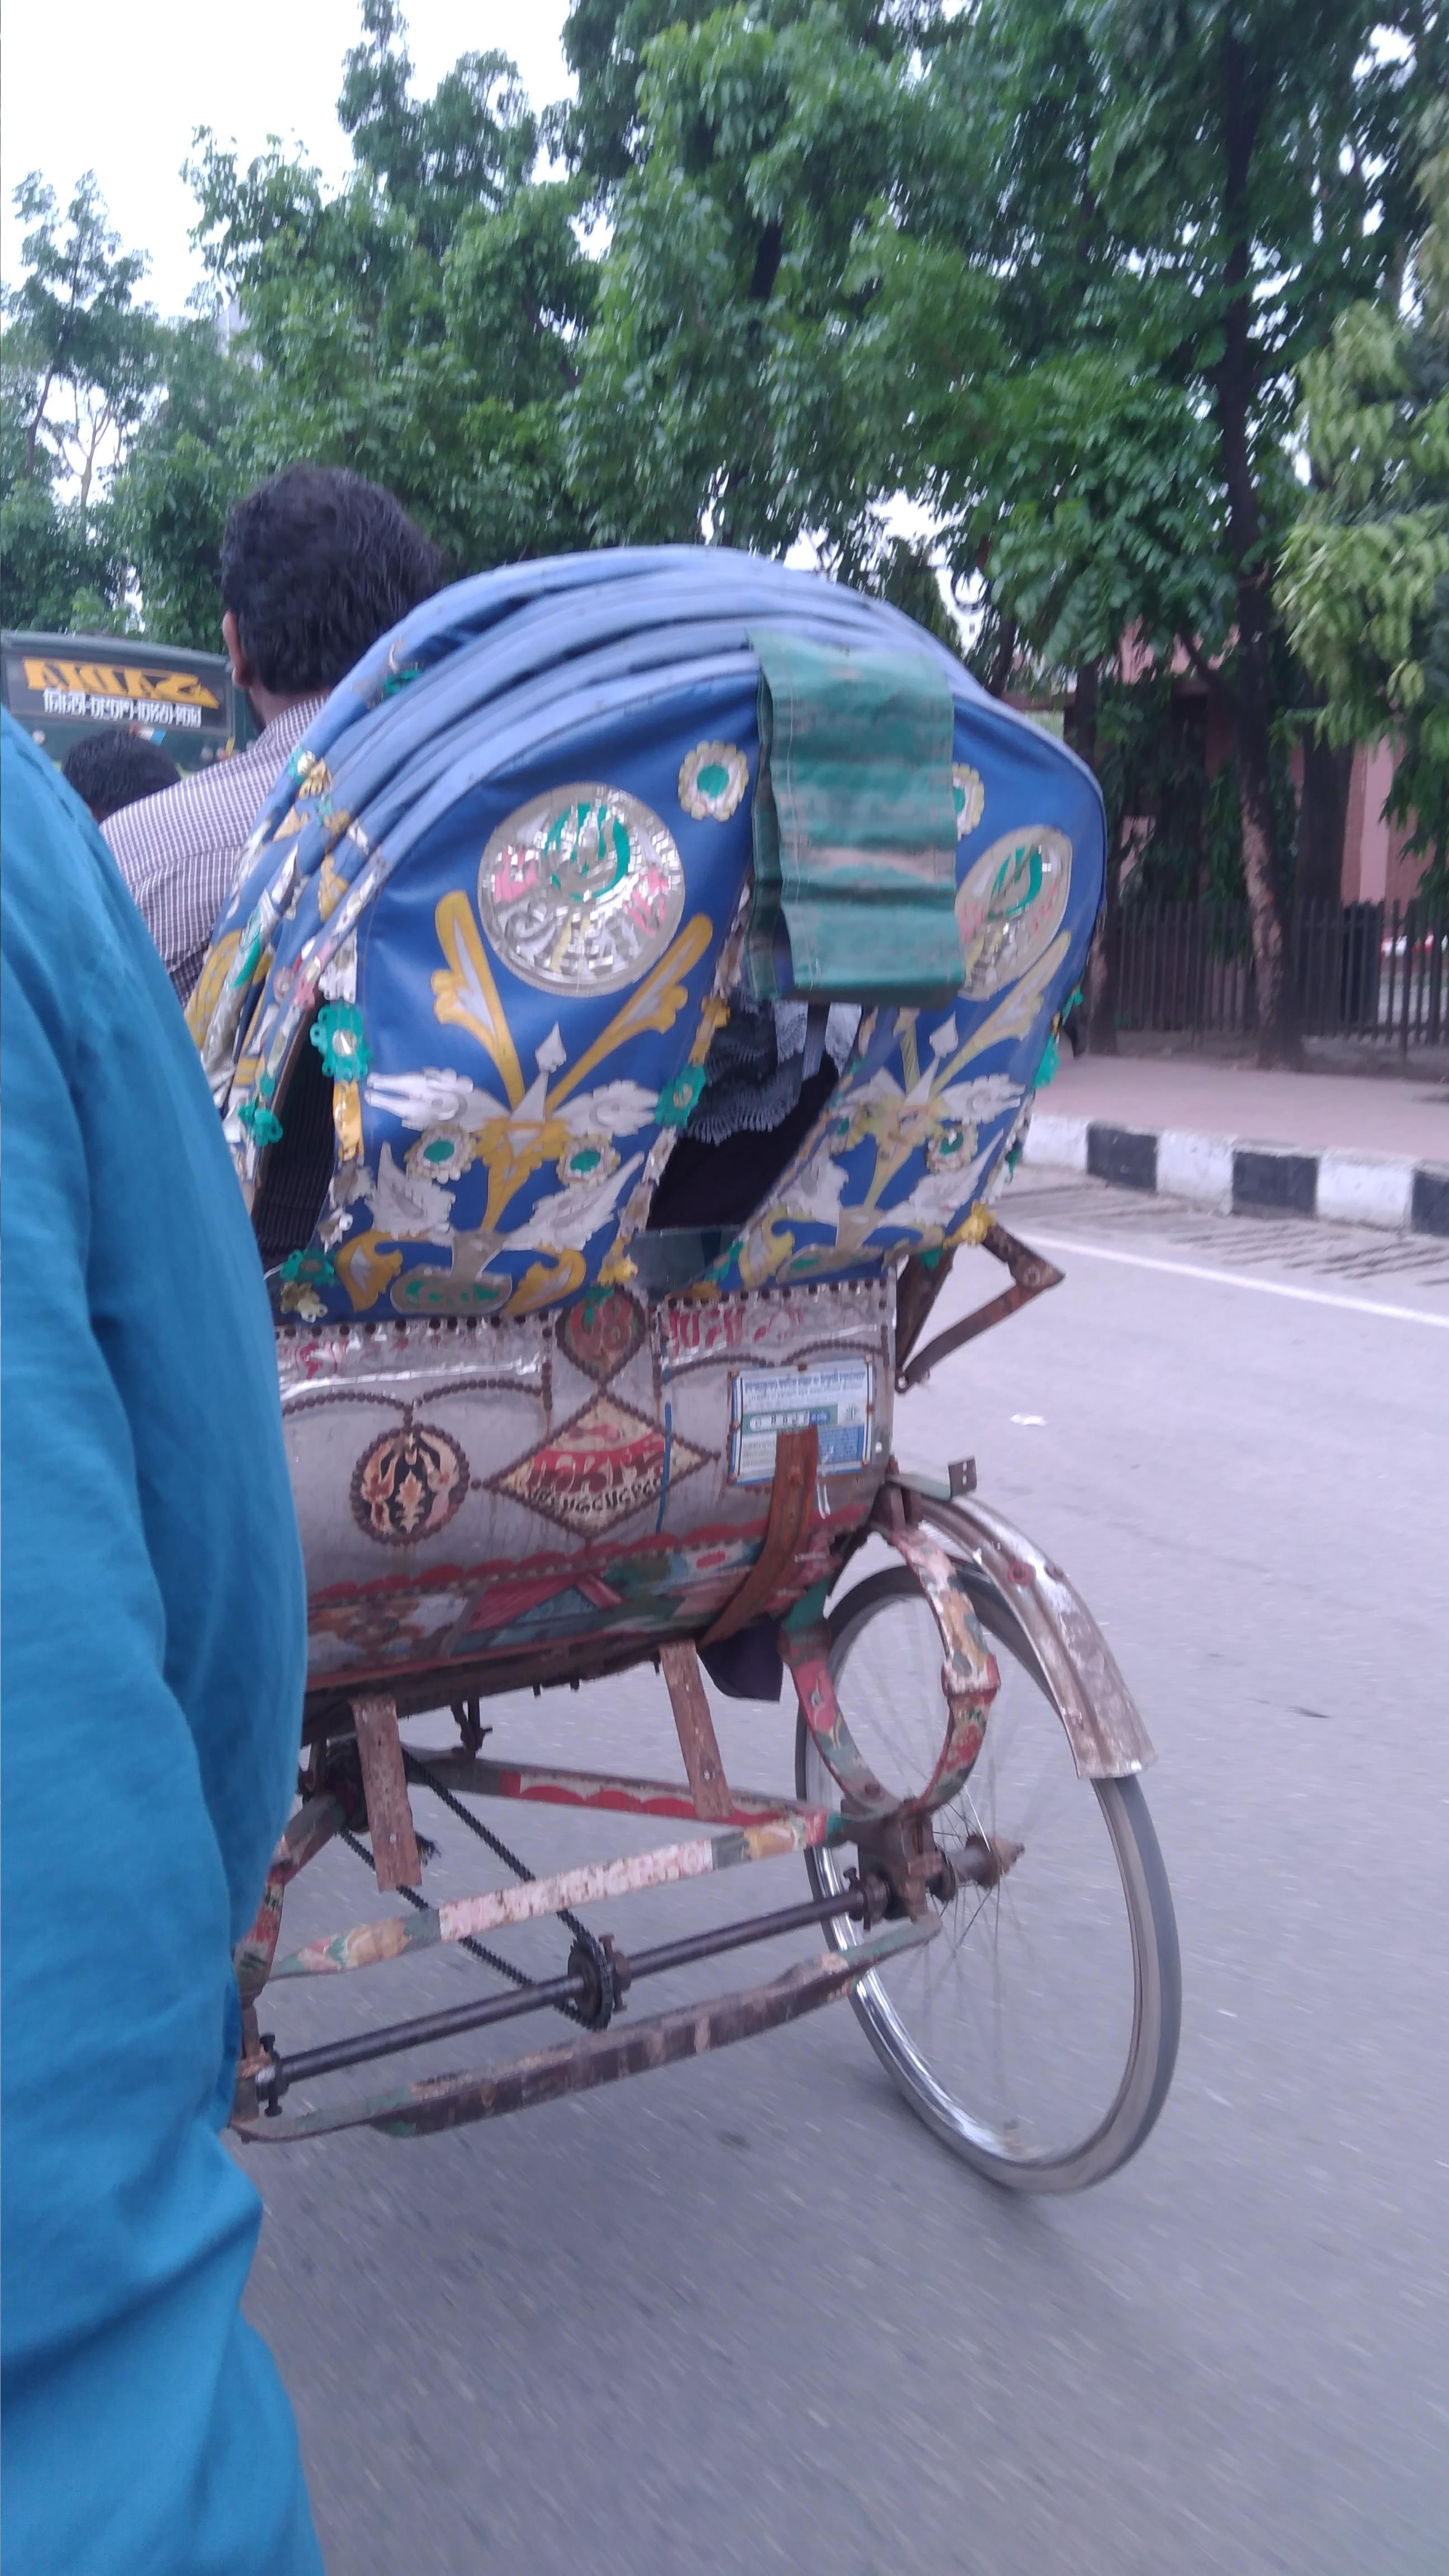Rickshaw: (124, 478, 1187, 2212)
